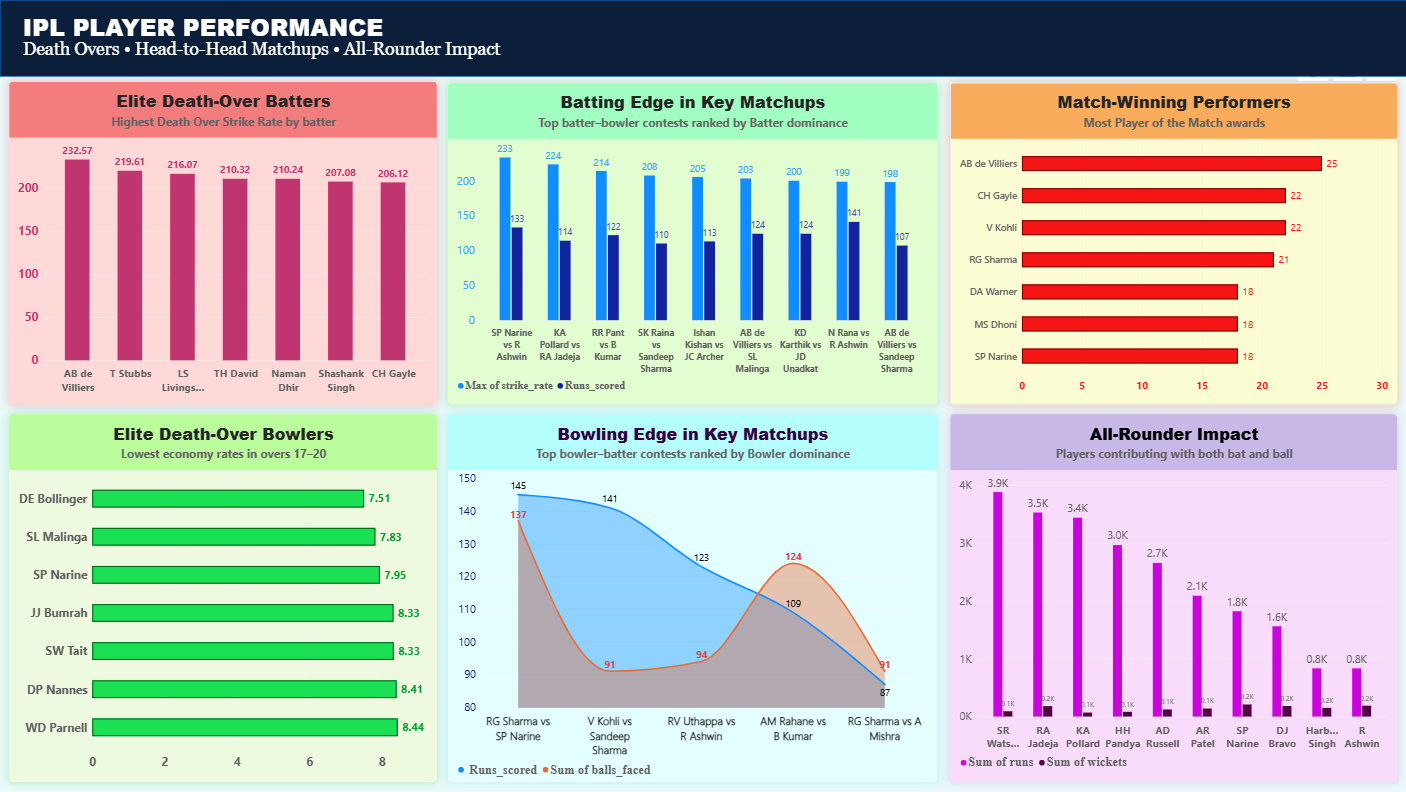

Layout of this report page (visuals, bound fields, positions):
{"tool":"powerbi","page":{"name":"Player performance","canvas":[2560,1440],"ordinal":1},"visuals":[{"type":"clusteredBarChart","title":"Match-Winning Performers","fields":{"Category":["ipl_analytics matches.player_of_match"],"Y":["ipl_analytics matches.Player of the Match Awards"]},"box":[1727.3,150,813.6,586.4],"z":0},{"type":"clusteredColumnChart","title":"Elite Death-Over Batters","fields":{"Category":["ipl_analytics deliveries.batter"],"Y":["ipl_analytics deliveries.Death Over Strike Rate"]},"box":[15.9,147.7,779.5,588.6],"z":1000},{"type":"clusteredBarChart","title":"Elite Death-Over Bowlers","fields":{"Category":["ipl_analytics deliveries.bowler"],"Y":["ipl_analytics deliveries.Death Over Economy"]},"box":[15.9,752.3,779.5,670.5],"z":2000},{"type":"clusteredColumnChart","title":"Batting Edge in Key Matchups","fields":{"Category":["ipl_analytics batter_vs_bowler.Matchup"],"Y":["Max(ipl_analytics batter_vs_bowler.strike_rate)","Sum(ipl_analytics batter_vs_bowler.runs_scored)"]},"box":[813.6,150,890.9,586.4],"z":3000},{"type":"areaChart","title":"Bowling Edge in Key Matchups","fields":{"Category":["ipl_analytics batter_vs_bowler.Matchup"],"Y":["Sum(ipl_analytics batter_vs_bowler.runs_scored)","Sum(ipl_analytics batter_vs_bowler.balls_faced)"]},"box":[813.6,752.3,890.9,670.5],"z":4000},{"type":"clusteredColumnChart","title":"All-Rounder Impact","fields":{"Category":["ipl_analytics player_season_stats.player"],"Y":["Sum(ipl_analytics player_season_stats.runs)","Sum(ipl_analytics player_season_stats.wickets)"]},"box":[1727.3,752.3,813.6,670.5],"z":5000},{"type":"shape","box":[0,0,2561,139],"z":6000},{"type":"textbox","box":[0,17.1,1900,78],"z":7000},{"type":"textbox","box":[0,70.7,1919.5,68.3],"z":8000}]}

Visuals, with their boxes in screenshot pixels (x1, y1, x2, y2), scaled from the page's 2560x1440 canvas onto the 1406x792 screenshot:
"Match-Winning Performers" clusteredBarChart: 949,82,1396,405
"Elite Death-Over Batters" clusteredColumnChart: 9,81,437,405
"Elite Death-Over Bowlers" clusteredBarChart: 9,414,437,783
"Batting Edge in Key Matchups" clusteredColumnChart: 447,82,936,405
"Bowling Edge in Key Matchups" areaChart: 447,414,936,783
"All-Rounder Impact" clusteredColumnChart: 949,414,1396,783
shape: 0,0,1405,76
textbox: 0,9,1044,52
textbox: 0,39,1054,76
